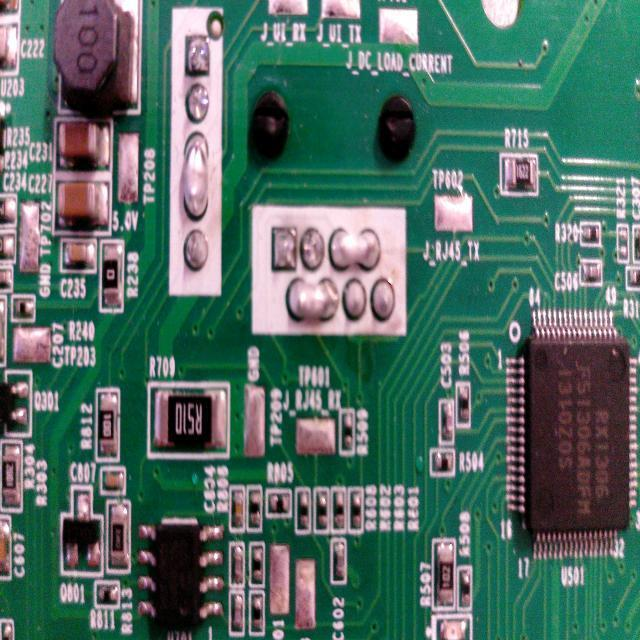Soldering shorted: (180, 130, 210, 227), (284, 276, 339, 324), (326, 227, 382, 271)
